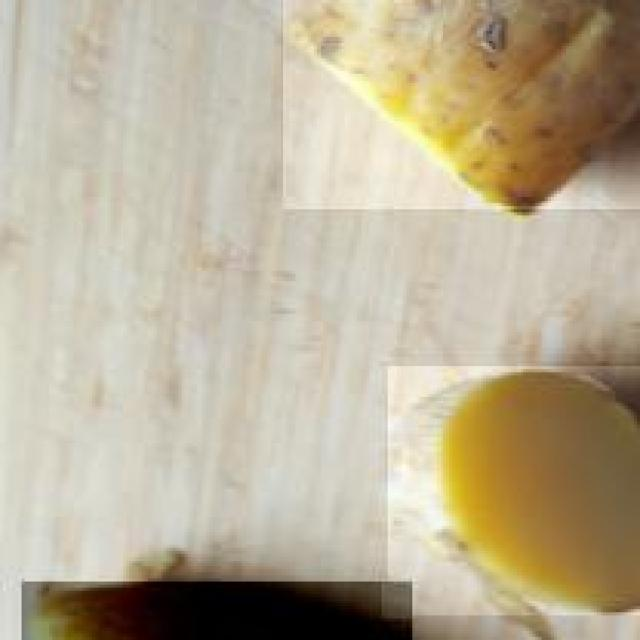potato: (280, 0, 640, 212), (381, 362, 640, 615), (19, 578, 412, 640)
